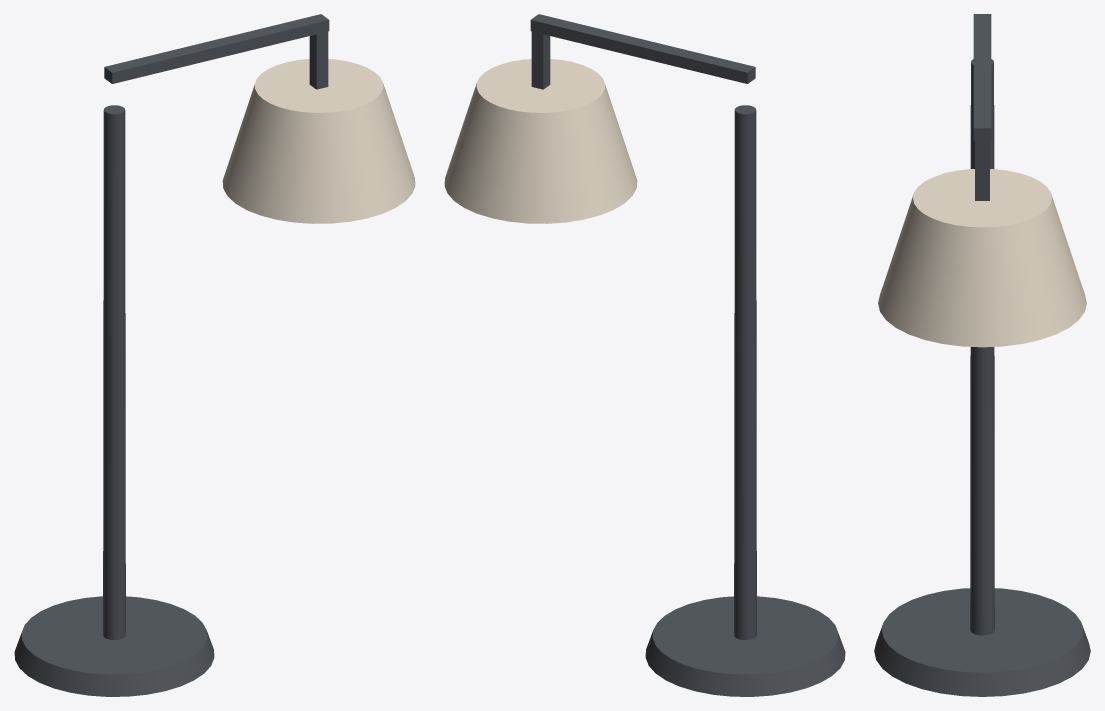
Rendered from lamp_arc.glb.
3 renders of one model, left to right at view 1: azimuth 30°, elevation 25°; view 2: azimuth 150°, elevation 25°; view 3: azimuth 270°, elevation 25°, orthographic. The views are drawn at different scales.
Parts seen in each view (by area): view 1: ArcShade, ArcBase, ArcPost, UpperArc, DropStem; view 2: ArcShade, ArcBase, ArcPost, UpperArc, DropStem; view 3: ArcShade, ArcBase, ArcPost, UpperArc, DropStem.
Part boxes in pixels (box(x1,y1,x2,y2)): ArcShade: box(222, 59, 415, 223); ArcBase: box(14, 596, 214, 696); ArcPost: box(103, 105, 125, 639); UpperArc: box(104, 14, 329, 83); DropStem: box(309, 31, 328, 89); ArcShade: box(444, 59, 637, 223); ArcBase: box(645, 596, 845, 696); ArcPost: box(734, 105, 756, 639); UpperArc: box(530, 14, 755, 83); DropStem: box(531, 31, 550, 89); ArcShade: box(878, 169, 1086, 347); ArcBase: box(874, 588, 1090, 696); ArcPost: box(970, 59, 994, 635); UpperArc: box(973, 14, 991, 140); DropStem: box(975, 140, 989, 200).
Bounding box in the file's own units: 1.21 × 1.81 × 0.56.
